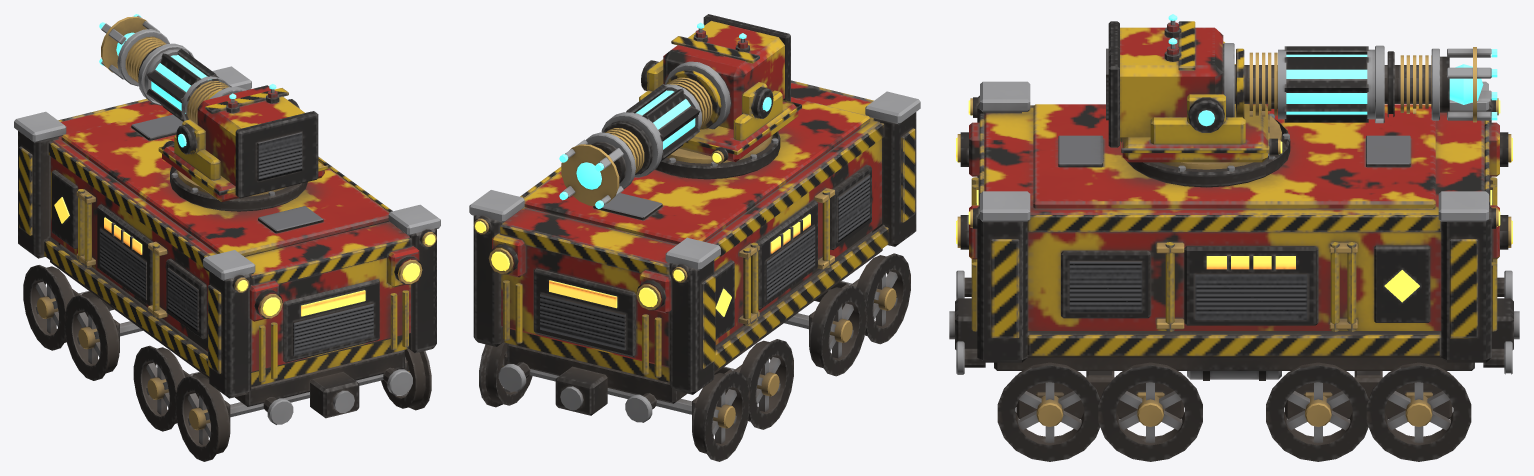
Rendered from SM_DRL_TeslaCar.fbx.
The picture shows the model from 3 angles, left to right: view 1: azimuth 30°, elevation 25°; view 2: azimuth 150°, elevation 25°; view 3: azimuth 270°, elevation 25°; orthographic projection. The views are drawn at different scales.
Visible parts, largest first — view 1: Body, Cannon, Axle_4, Turret, Axle_2, Axle_3, Axle_1; view 2: Body, Cannon, Turret, Axle_1, Axle_3, Axle_2, Axle_4; view 3: Body, Cannon, Turret, Axle_1, Axle_3, Axle_4, Axle_2.
Boxes of the visible parts, left/top/right/bottom form: Body: left=14, top=66, right=440, bottom=433; Cannon: left=99, top=14, right=318, bottom=198; Axle_4: left=175, top=349, right=431, bottom=461; Turret: left=158, top=99, right=328, bottom=211; Axle_2: left=64, top=295, right=142, bottom=380; Axle_3: left=133, top=345, right=200, bottom=431; Axle_1: left=23, top=265, right=89, bottom=350; Body: left=469, top=80, right=920, bottom=432; Cannon: left=559, top=14, right=790, bottom=208; Turret: left=639, top=59, right=801, bottom=179; Axle_1: left=479, top=342, right=750, bottom=461; Axle_3: left=784, top=285, right=867, bottom=376; Axle_2: left=724, top=339, right=793, bottom=429; Axle_4: left=840, top=253, right=910, bottom=344; Body: left=949, top=81, right=1519, bottom=418; Cannon: left=1106, top=14, right=1497, bottom=147; Turret: left=1121, top=41, right=1290, bottom=187; Axle_1: left=1366, top=362, right=1471, bottom=461; Axle_3: left=1098, top=362, right=1202, bottom=461; Axle_4: left=997, top=362, right=1100, bottom=461; Axle_2: left=1266, top=362, right=1368, bottom=461.
Size of the model in its own units: 1.1 by 2.04 by 1.47.
